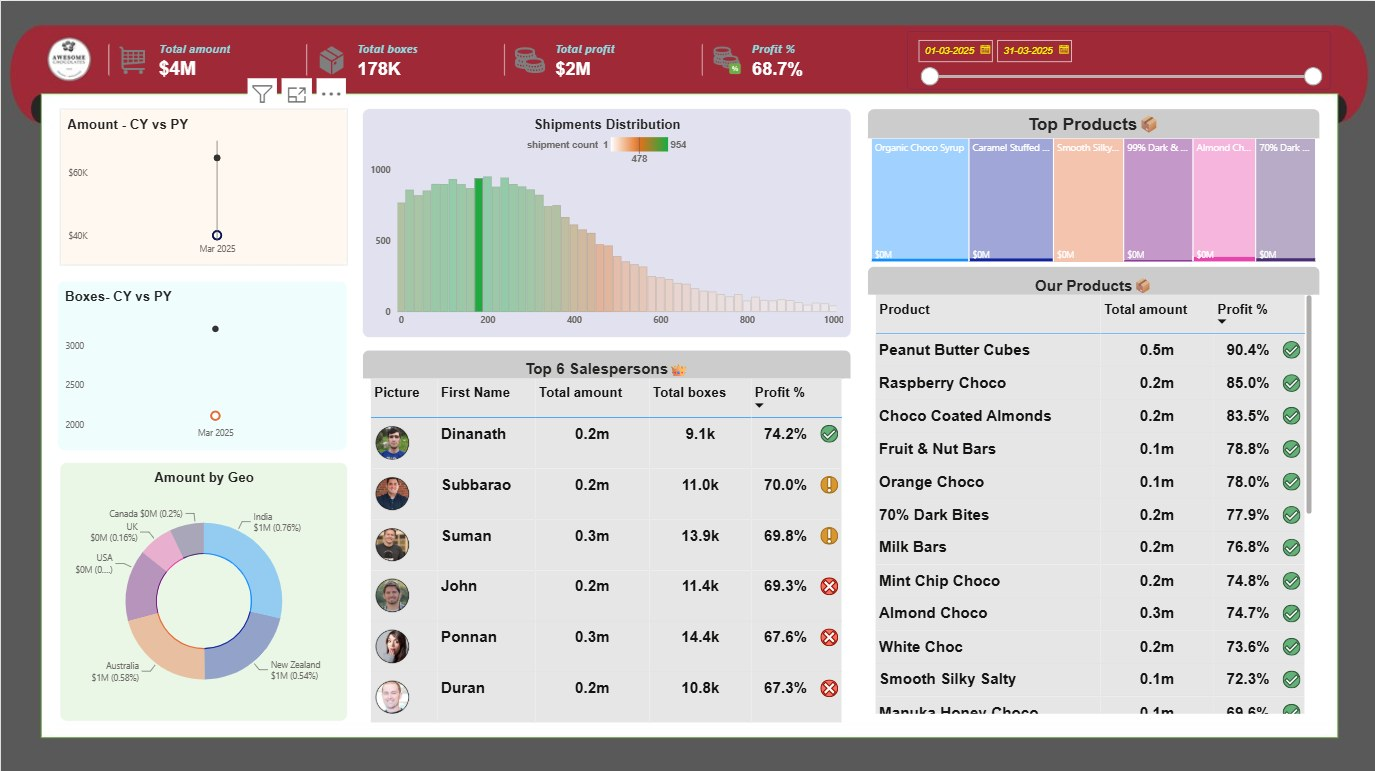

This screenshot's page, from the dashboard's own definition file:
{"tool":"powerbi","page":{"name":"Page 8","canvas":[1920,1080],"ordinal":0},"visuals":[{"type":"lineChart","title":"Amount - CY vs PY","fields":{"Category":["calendar.Start of Month"],"Y":["shipments.Total amount","shipments.Total Amount(last year)"]},"box":[81.7,150,401.7,220],"z":0},{"type":"lineChart","title":"Boxes- CY vs PY","fields":{"Category":["calendar.Start of Month"],"Y":["shipments.Total boxes","shipments.Total boxes(last year)"]},"box":[78.3,390,405,236.7],"z":1000},{"type":"donutChart","title":"Amount by Geo","fields":{"Category":["locations.Geo"],"Y":["shipments.Total amount"]},"box":[81.7,643.3,401.7,361.7],"z":2000},{"type":"clusteredColumnChart","title":"Shipments Distribution","fields":{"Category":["shipments.Boxes (bins)"],"Y":["shipments.shipment count"]},"box":[504,150,682,320],"z":3000},{"type":"tableEx","title":"Top 6 Salespersons👑","fields":{"Values":["people.Picture","people.First Name","shipments.Total amount","shipments.Total boxes","shipments.Profit %"]},"box":[504,486,682,536],"z":4000},{"type":"treemap","title":"Top Products📦","fields":{"Group":["products.Product"],"Values":["shipments.Total amount"]},"box":[1208,150,632,220],"z":5000},{"type":"tableEx","title":"Our Products📦","fields":{"Values":["products.Product","shipments.Total amount","shipments.Profit %"]},"box":[1208,370,632,636],"z":6000},{"type":"cardVisual","fields":{"Data":["shipments.Total amount","shipments.Total boxes","shipments.Total profit","shipments.Profit %"]},"box":[133.3,41.7,1131.7,81.7],"z":7000},{"type":"slicer","title":"Time Line","fields":{"Values":["calendar.cal_date"]},"box":[1265,41.2,590,81.2],"z":7001}]}

Visuals, with their boxes on the page's 1920x1080 design canvas (x1, y1, x2, y2). These are canvas units, not pixel positions in the 1375x771 screenshot, which may show the page scaled, cropped or inside an application window:
"Amount - CY vs PY" lineChart: select_region(82, 150, 483, 370)
"Boxes- CY vs PY" lineChart: select_region(78, 390, 483, 627)
"Amount by Geo" donutChart: select_region(82, 643, 483, 1005)
"Shipments Distribution" clusteredColumnChart: select_region(504, 150, 1186, 470)
"Top 6 Salespersons👑" tableEx: select_region(504, 486, 1186, 1022)
"Top Products📦" treemap: select_region(1208, 150, 1840, 370)
"Our Products📦" tableEx: select_region(1208, 370, 1840, 1006)
cardVisual - shipments.Total amount x shipments.Total boxes: select_region(133, 42, 1265, 123)
"Time Line" slicer: select_region(1265, 41, 1855, 122)
